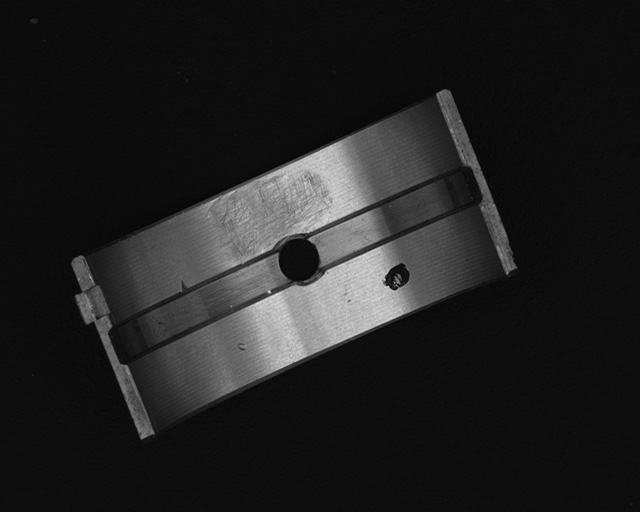blot: (382, 261, 411, 291)
bruise: (178, 280, 190, 295), (237, 341, 247, 353)
gap: (116, 247, 296, 366), (306, 155, 481, 274)
hole: (271, 233, 325, 289)
scratch: (210, 168, 336, 264)
